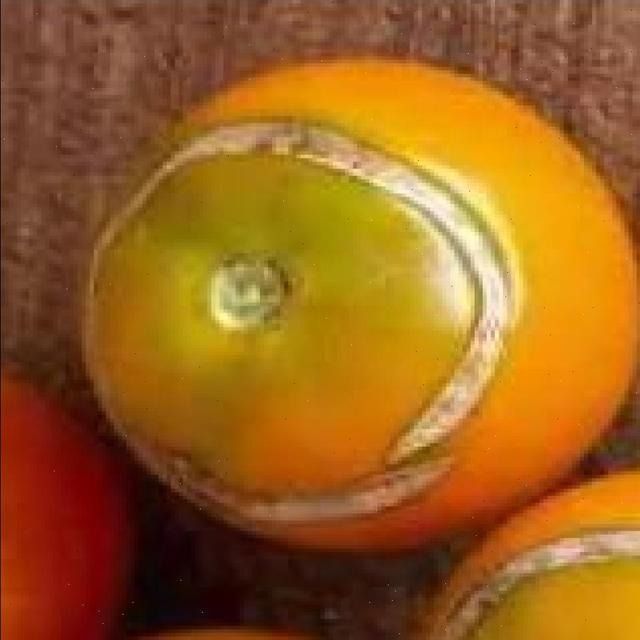Cracking Fruit: (138, 70, 358, 392)
